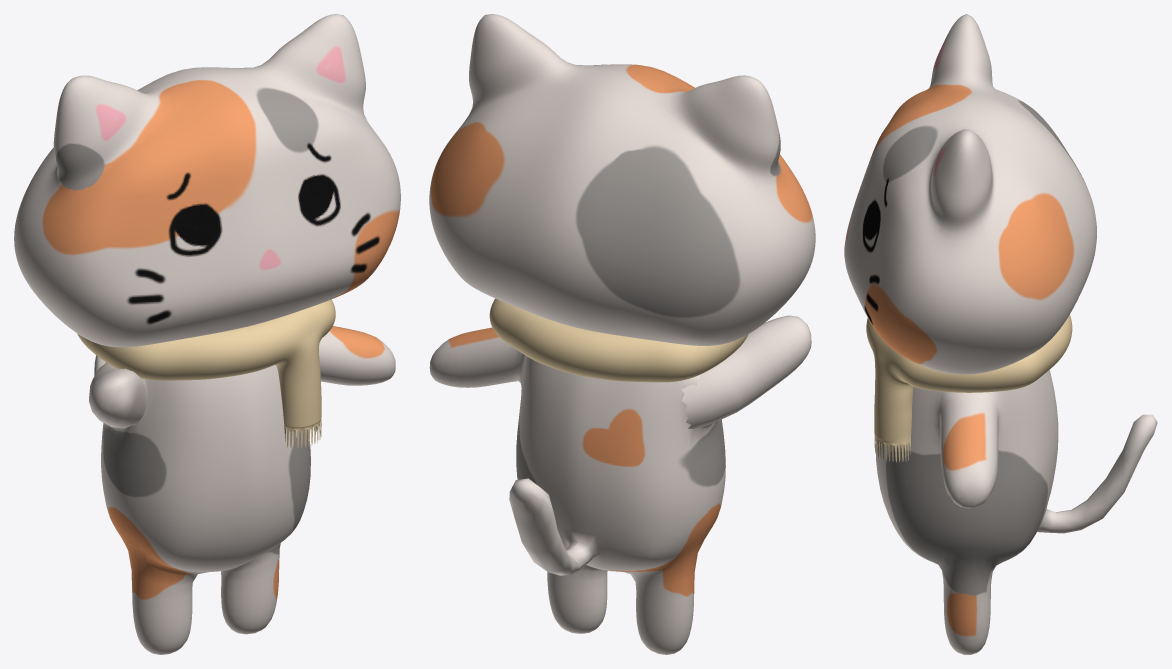
Rendered from im_sol_arm_out.glb.
3 views of the same model, side by side, from view 1: azimuth 30°, elevation 25°; view 2: azimuth 150°, elevation 25°; view 3: azimuth 270°, elevation 25° (orthographic). The views are drawn at different scales.
Parts seen in each view (by area): view 1: Roundcube, Roundcube.001, Torus; view 2: Roundcube, Roundcube.001, Torus; view 3: Roundcube, Roundcube.001, Torus.
Part boxes in pixels (left/top/right/bottom): Roundcube: left=14, top=14, right=400, bottom=347; Roundcube.001: left=89, top=326, right=395, bottom=654; Torus: left=77, top=299, right=335, bottom=448; Roundcube: left=429, top=14, right=815, bottom=345; Roundcube.001: left=429, top=315, right=811, bottom=654; Torus: left=489, top=298, right=748, bottom=382; Roundcube: left=844, top=14, right=1096, bottom=374; Roundcube.001: left=875, top=370, right=1157, bottom=654; Torus: left=866, top=314, right=1072, bottom=462.
Bounding box in the file's own units: 1.37 × 2.14 × 1.09.
1 material, 1 textured.
